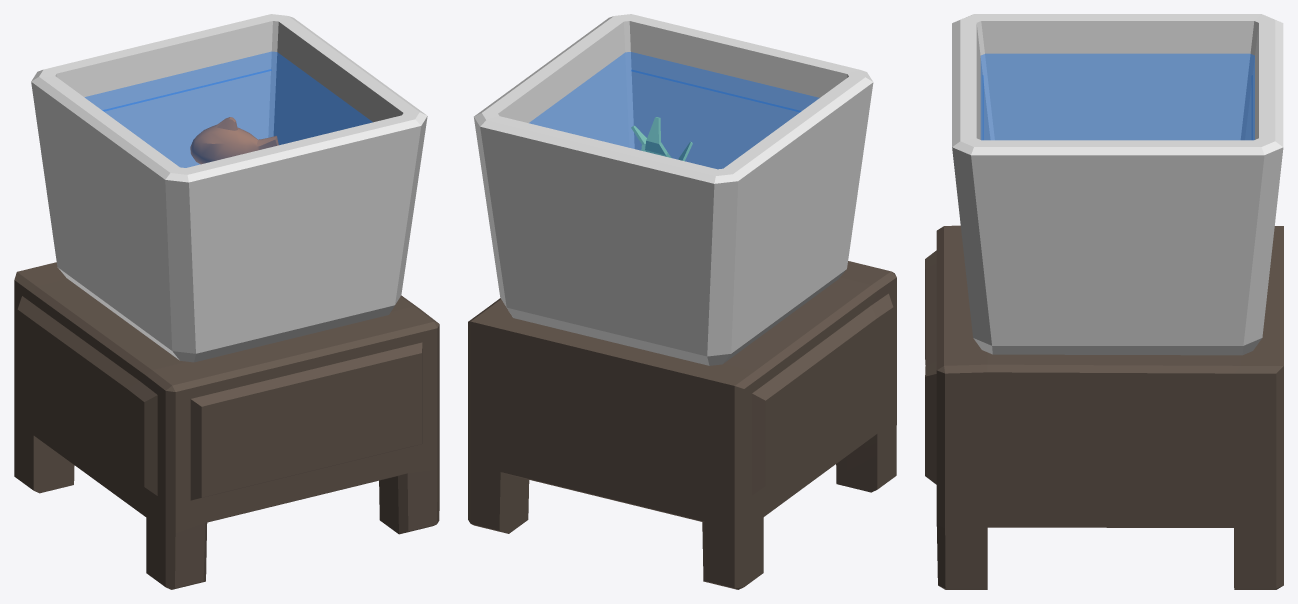
The model's file is aquarium02.fbx.
3 renders of one model, left to right at view 1: azimuth 30°, elevation 25°; view 2: azimuth 150°, elevation 25°; view 3: azimuth 270°, elevation 25°, orthographic. The views are drawn at different scales.
Visible parts, largest first — view 1: sm_aqarium_glass, sm_aqarium; view 2: sm_aqarium_glass, sm_aqarium; view 3: sm_aqarium_glass, sm_aqarium.
Part boxes in pixels (<box>): sm_aqarium_glass: <box>31,14,427,362</box>; sm_aqarium: <box>14,51,439,589</box>; sm_aqarium_glass: <box>474,14,873,365</box>; sm_aqarium: <box>468,52,896,589</box>; sm_aqarium_glass: <box>952,14,1283,355</box>; sm_aqarium: <box>925,54,1283,589</box>.
Size of the model in its own units: 104 by 142 by 104.
